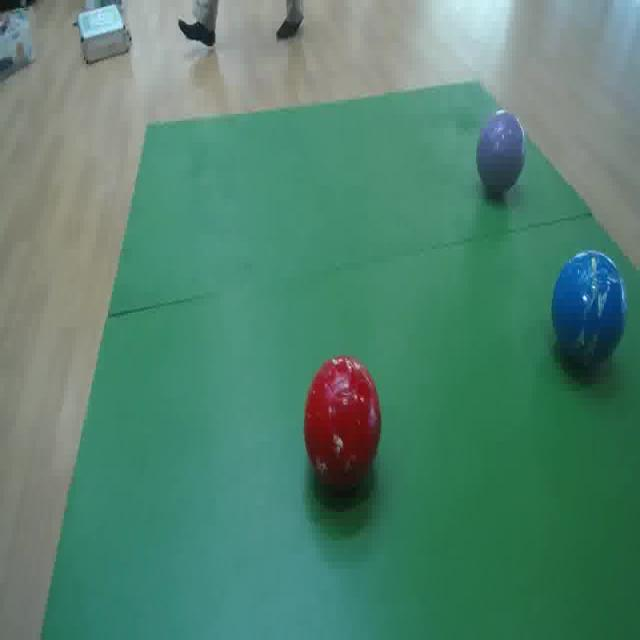blue_ball: (543, 237, 640, 376)
purple_ball: (475, 104, 526, 210)
red_ball: (303, 346, 382, 498)
